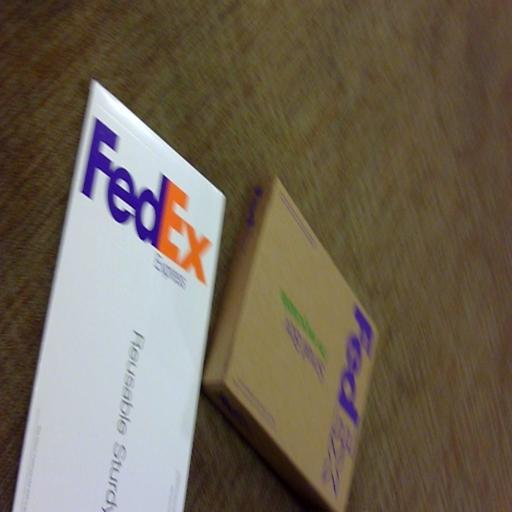Amazon: (35, 82, 205, 512), (214, 198, 377, 512)
